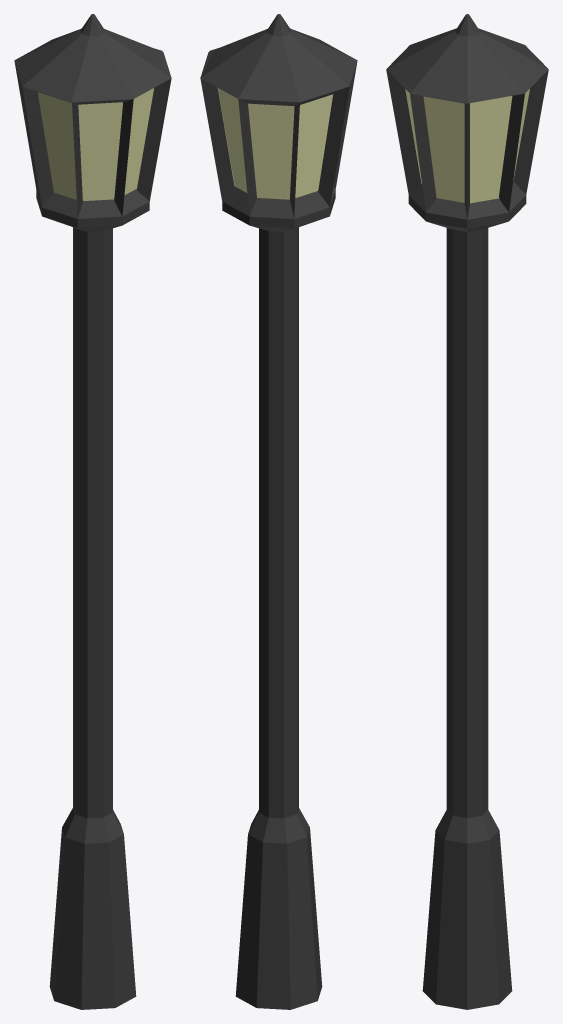
The model's file is street lamp3.fbx.
The picture shows the model from 3 angles, left to right: view 1: azimuth 30°, elevation 25°; view 2: azimuth 150°, elevation 25°; view 3: azimuth 270°, elevation 25°; orthographic projection.
Visible parts, largest first — view 1: 円柱; view 2: 円柱; view 3: 円柱.
Part boxes in pixels (x1,y1,x2,y2): 円柱: (14,14,171,1009); 円柱: (200,14,357,1009); 円柱: (386,14,548,1009).
Bounding box in the file's own units: 17.96 × 119 × 17.96.
